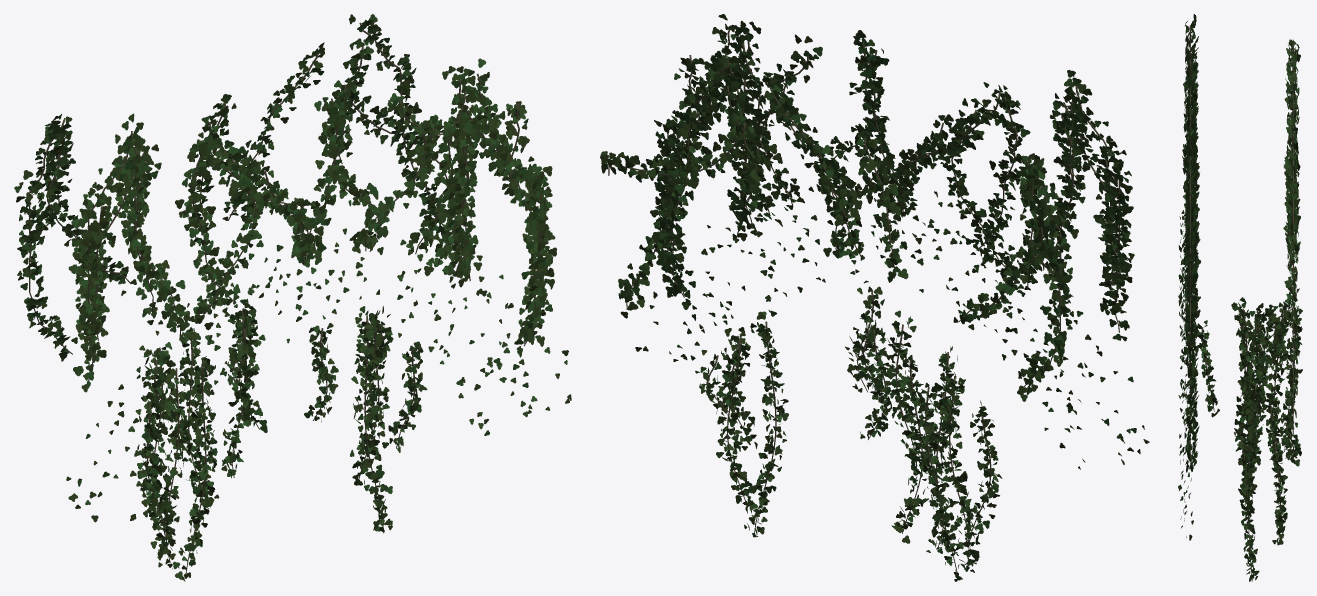
The model's file is ER_Rideau_Lierre_Arc_3m8.gltf.
3 views of the same model, side by side, from view 1: azimuth 30°, elevation 25°; view 2: azimuth 150°, elevation 25°; view 3: azimuth 270°, elevation 25° (orthographic). The views are drawn at different scales.
Visible parts, largest first — view 1: ER_Rideau_Lierre_Arc_3m8_FEU.001, ER_Rideau_Lierre_Arc_3m8_TIG.001; view 2: ER_Rideau_Lierre_Arc_3m8_FEU.001, ER_Rideau_Lierre_Arc_3m8_TIG.001; view 3: ER_Rideau_Lierre_Arc_3m8_FEU.001, ER_Rideau_Lierre_Arc_3m8_TIG.001.
Part boxes in pixels (x1=…): ER_Rideau_Lierre_Arc_3m8_FEU.001: x1=14, y1=14, x2=571, y2=581; ER_Rideau_Lierre_Arc_3m8_TIG.001: x1=29, y1=22, x2=541, y2=574; ER_Rideau_Lierre_Arc_3m8_FEU.001: x1=600, y1=14, x2=1149, y2=581; ER_Rideau_Lierre_Arc_3m8_TIG.001: x1=608, y1=25, x2=1120, y2=573; ER_Rideau_Lierre_Arc_3m8_FEU.001: x1=1178, y1=14, x2=1302, y2=581; ER_Rideau_Lierre_Arc_3m8_TIG.001: x1=1189, y1=25, x2=1295, y2=581.
Size of the model in its own units: 4.28 by 4.12 by 1.04.
